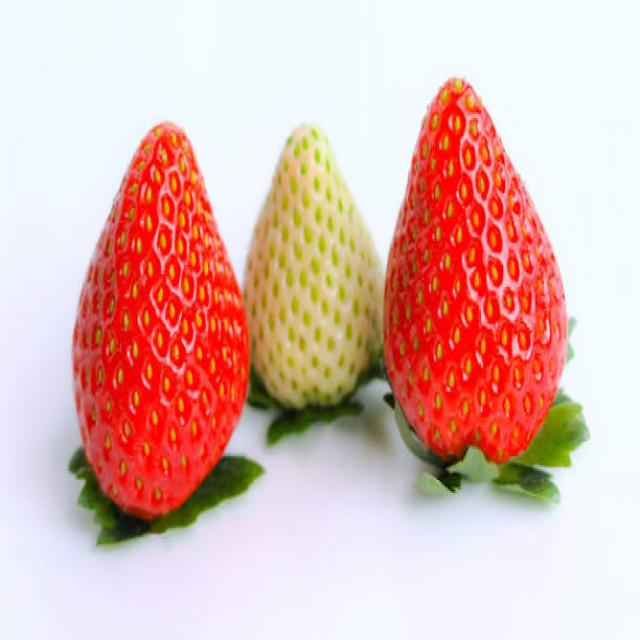Healthy Fruit: (383, 78, 567, 467), (73, 122, 249, 515), (242, 123, 384, 412)
